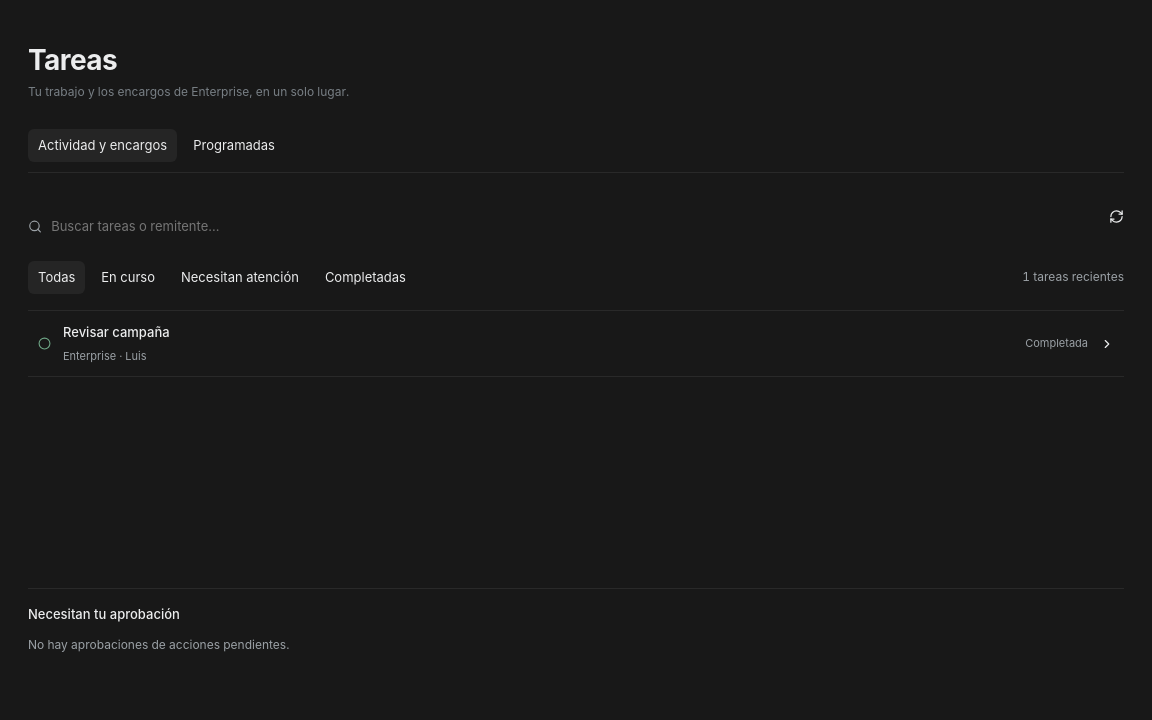
Test case: Community task dashboard › filters completed work without treating the global list as empty
Click the button "En curso" at (128, 277), box [91,261,165,294]
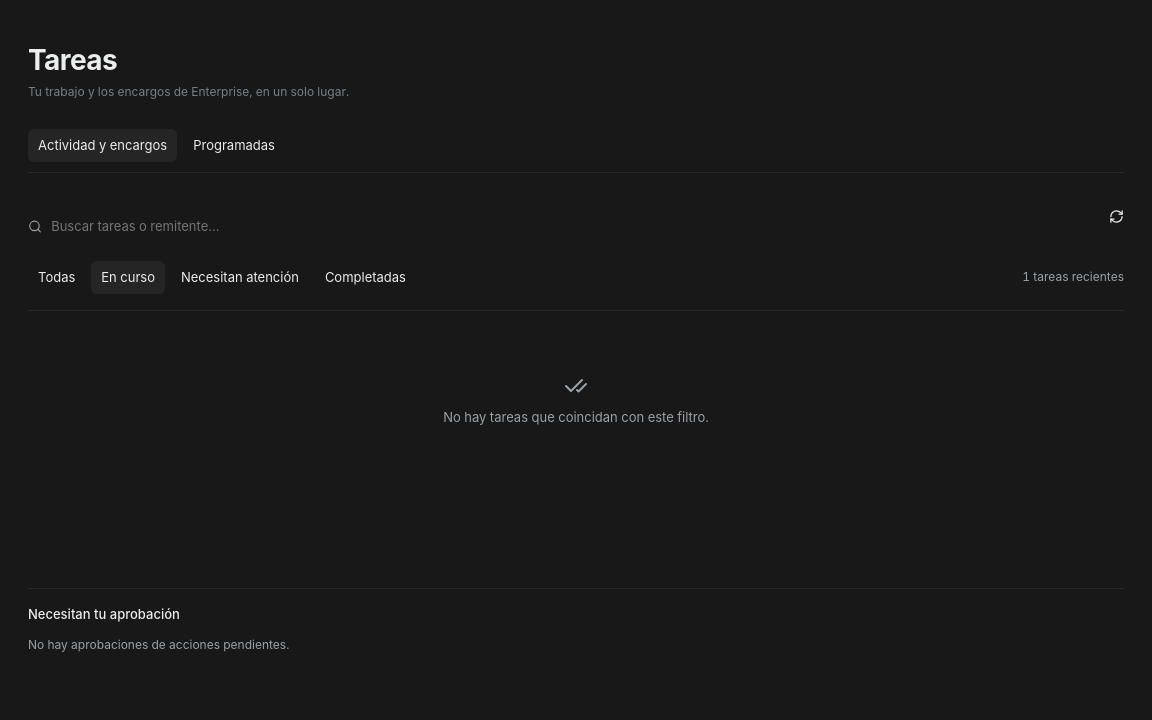
Expected: the text "1 tareas recientes" is shown, [1022,268,1124,286]
Expected: the text "No hay tareas que coincidan con este filtro" is shown, [443,409,709,425]
